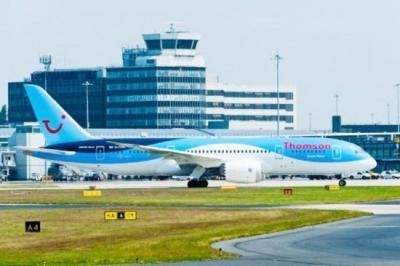airplane: (14, 82, 377, 189)
